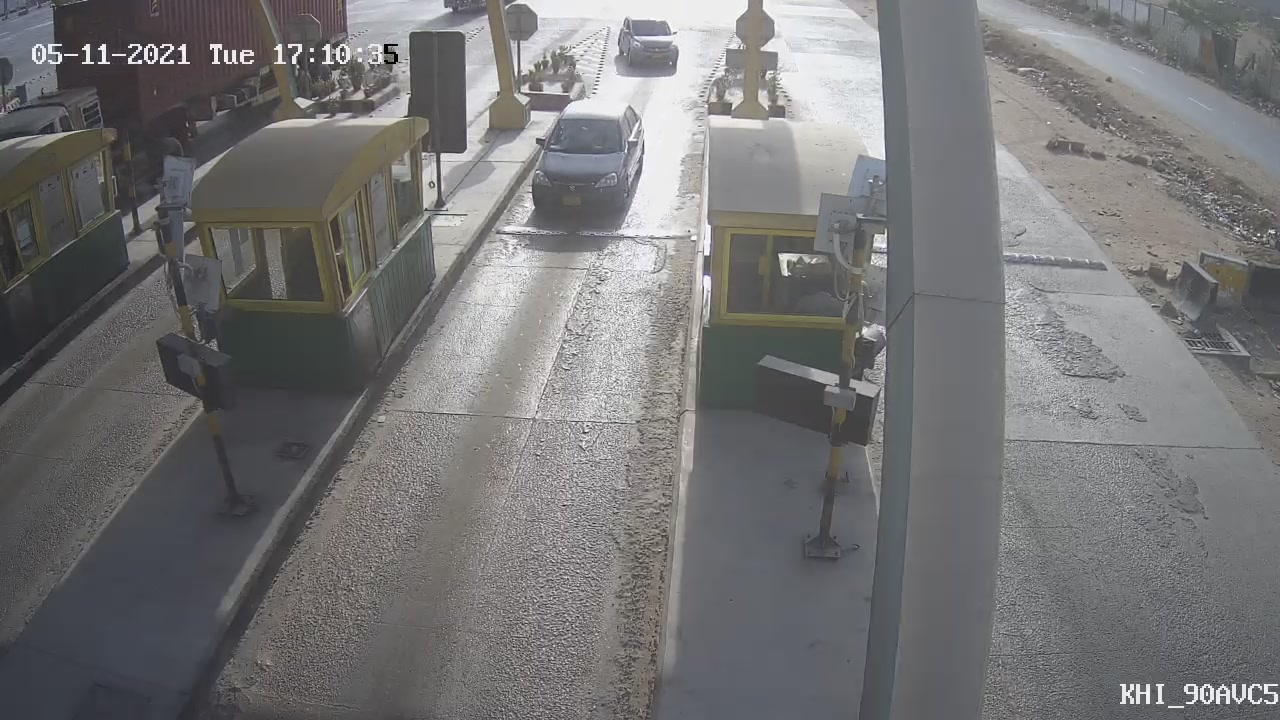F1: (513, 87, 661, 233)
